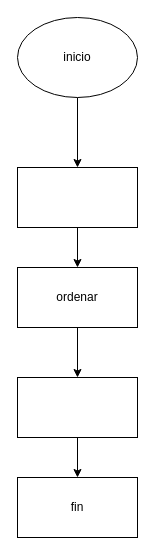
Image size: 155x555. Some labels were removed from this diagram. Each missing label, with the centre of its shape:
mostrar: the point at 77,407
pedir datos: the point at 77,197
